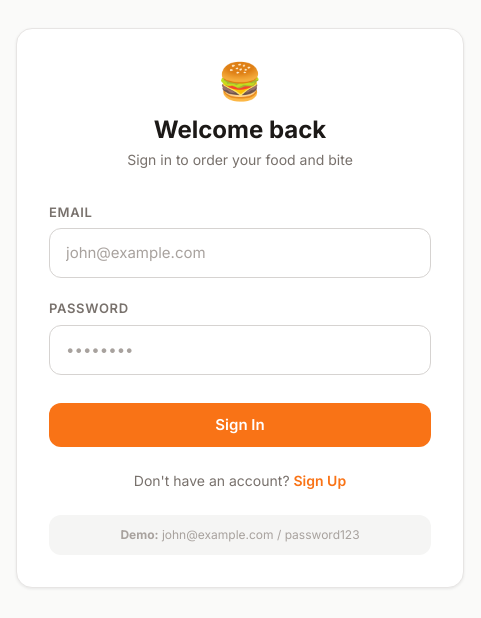
LoginPage › validates password length
In the field labelled "Email": (240,253) [49, 228, 431, 278], type "test@example.com"
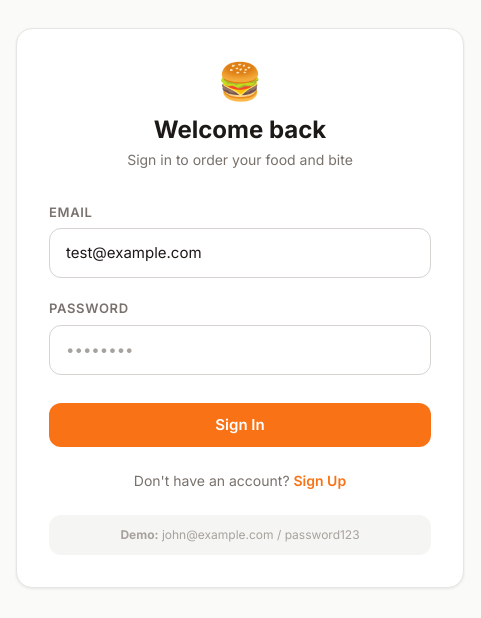
In the password field labelled "Password": (240,350) [49, 325, 431, 375], type "123"
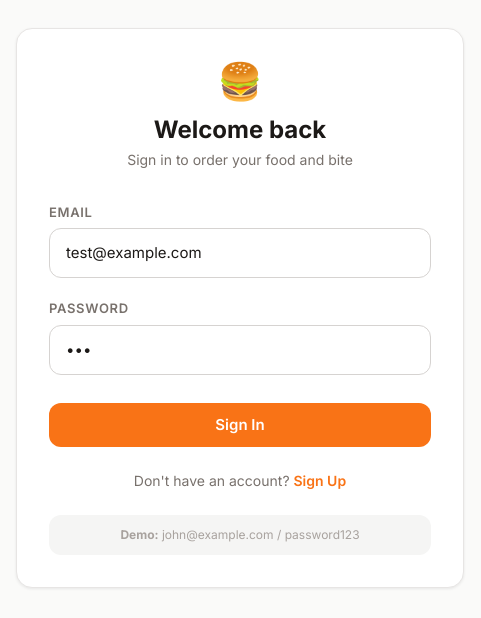
Click the button "Sign In": (240,425) [49, 403, 431, 447]
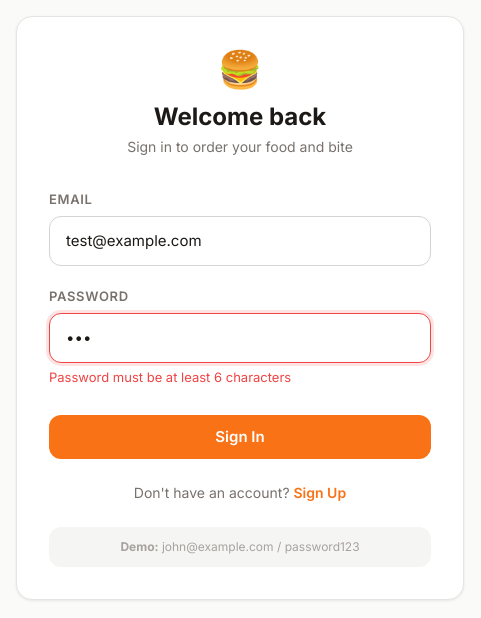
Expected: the text "Password must be at least 6 characters" is shown, [49, 369, 291, 385]
